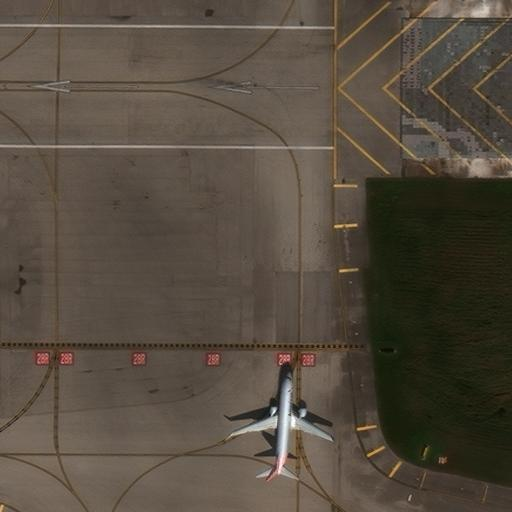Medium Civil Transport: (231, 373, 334, 482)
